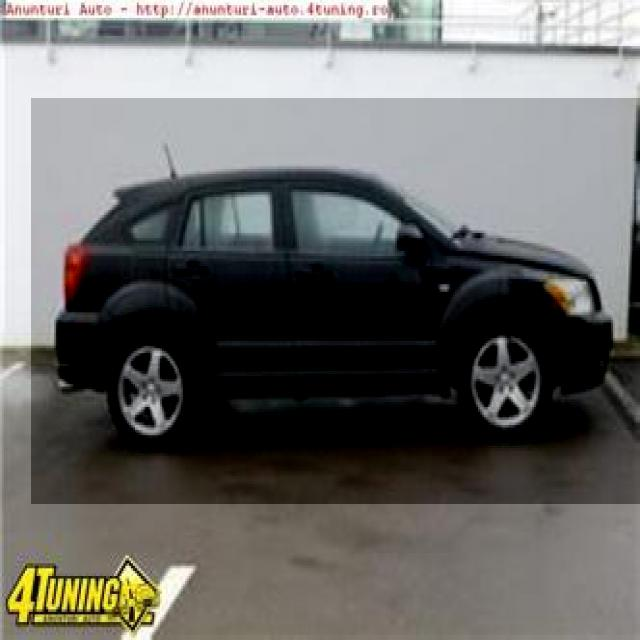Car: (31, 98, 640, 504)
